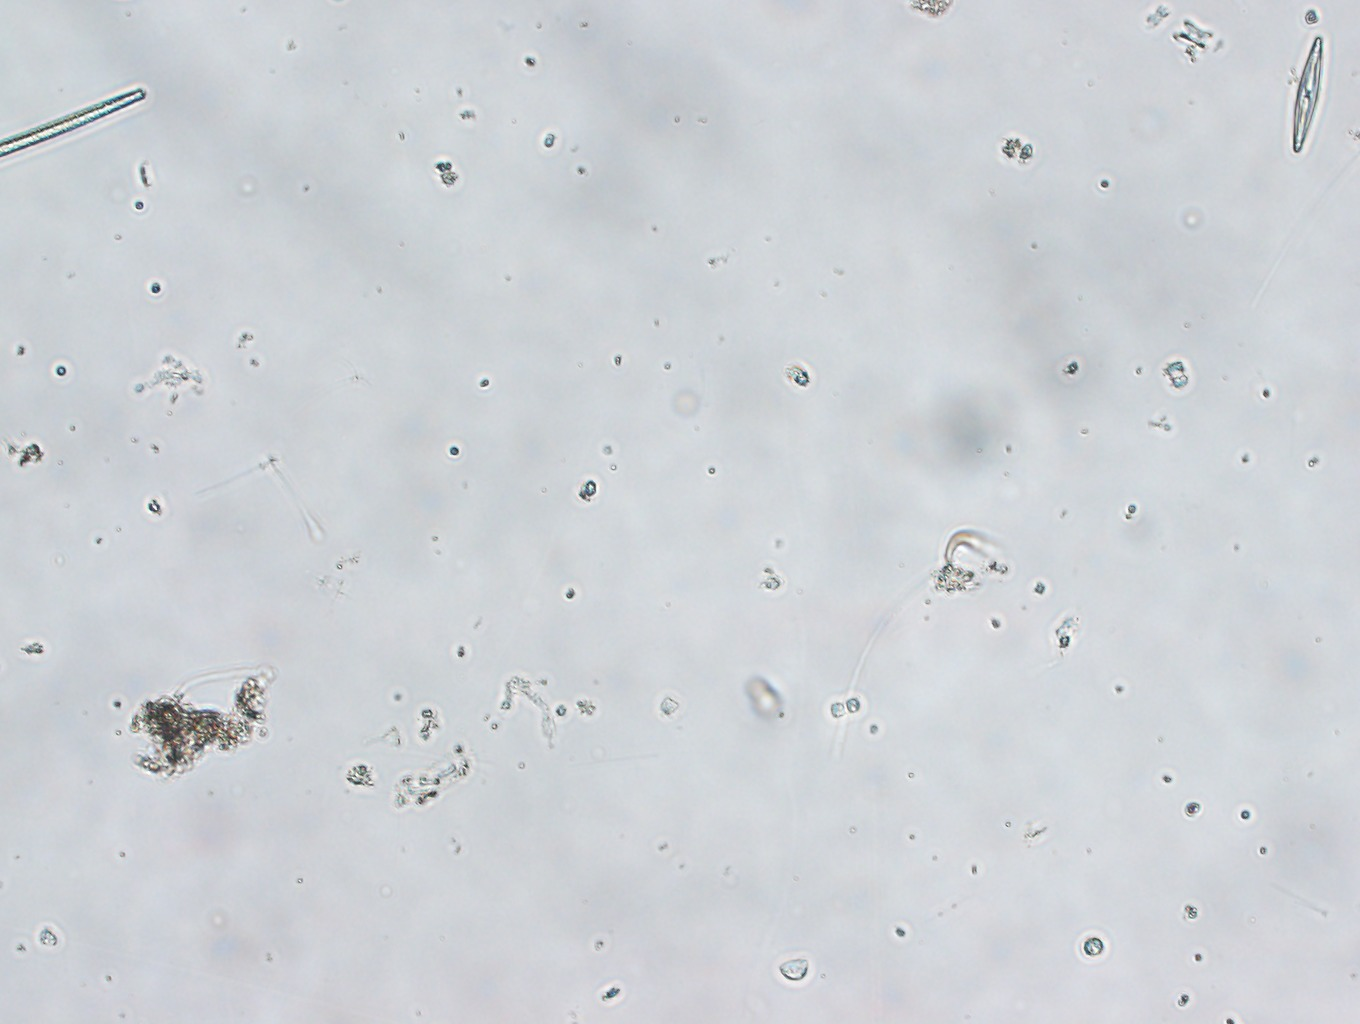navicula: (1280, 30, 1333, 160)
